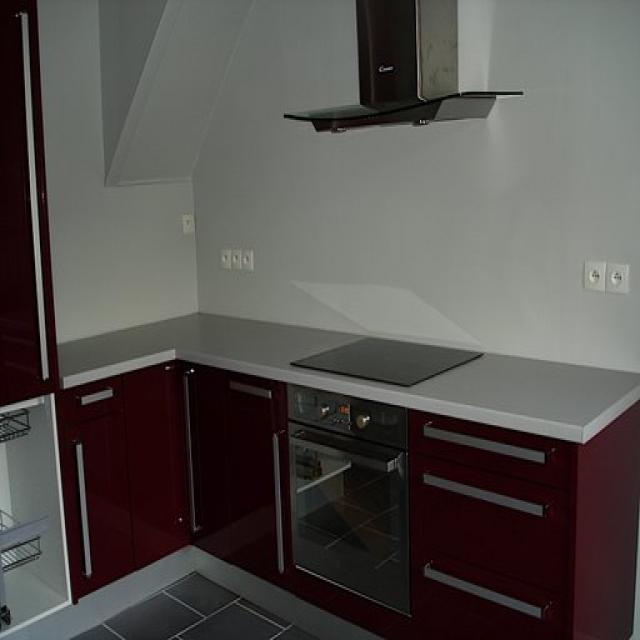oven cloth: (286, 385, 410, 617)
socket: (604, 260, 629, 290), (581, 258, 605, 288)
